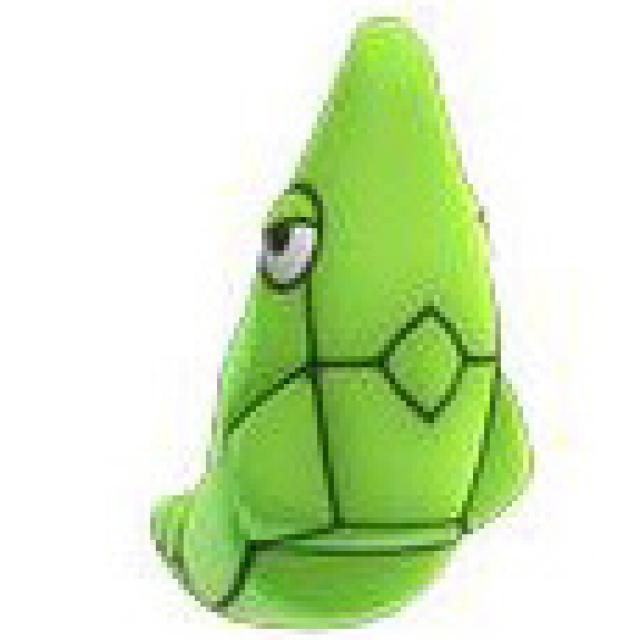Metapod: (174, 19, 537, 634)
